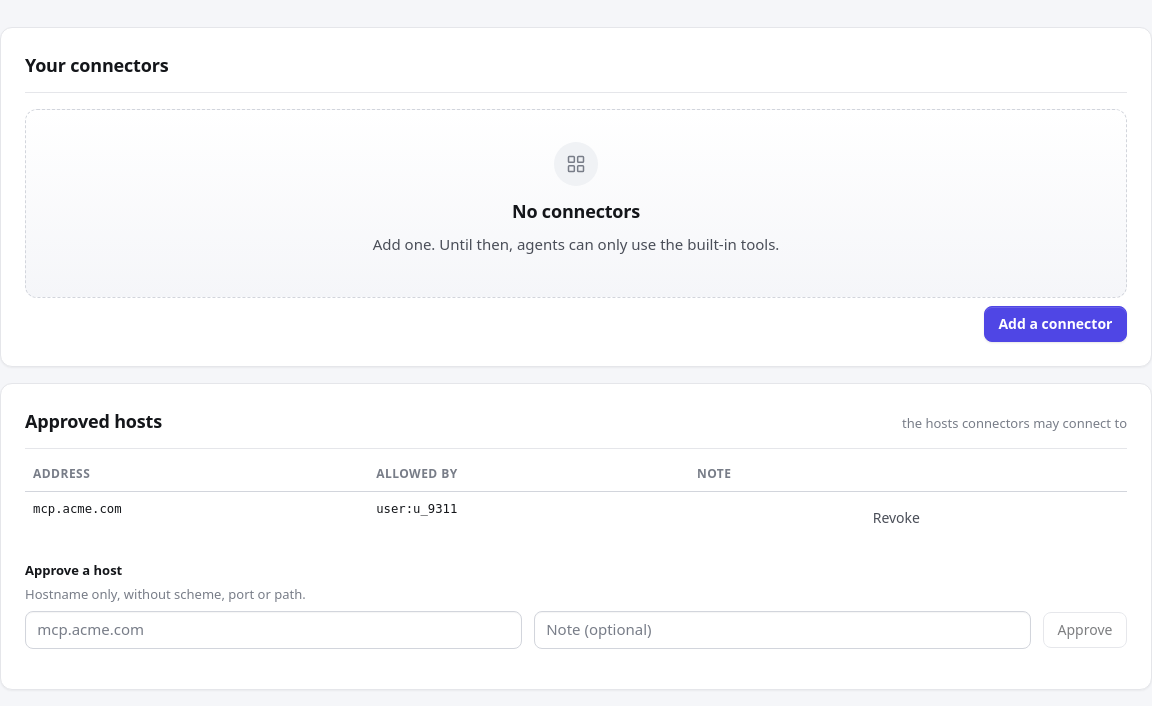
hosts › renders the warning after approving one that will never be dialled
(page scrolled)
Type "localhost" into the field with placeholder "mcp.acme.com" at (274, 630), box [25,611,522,649]
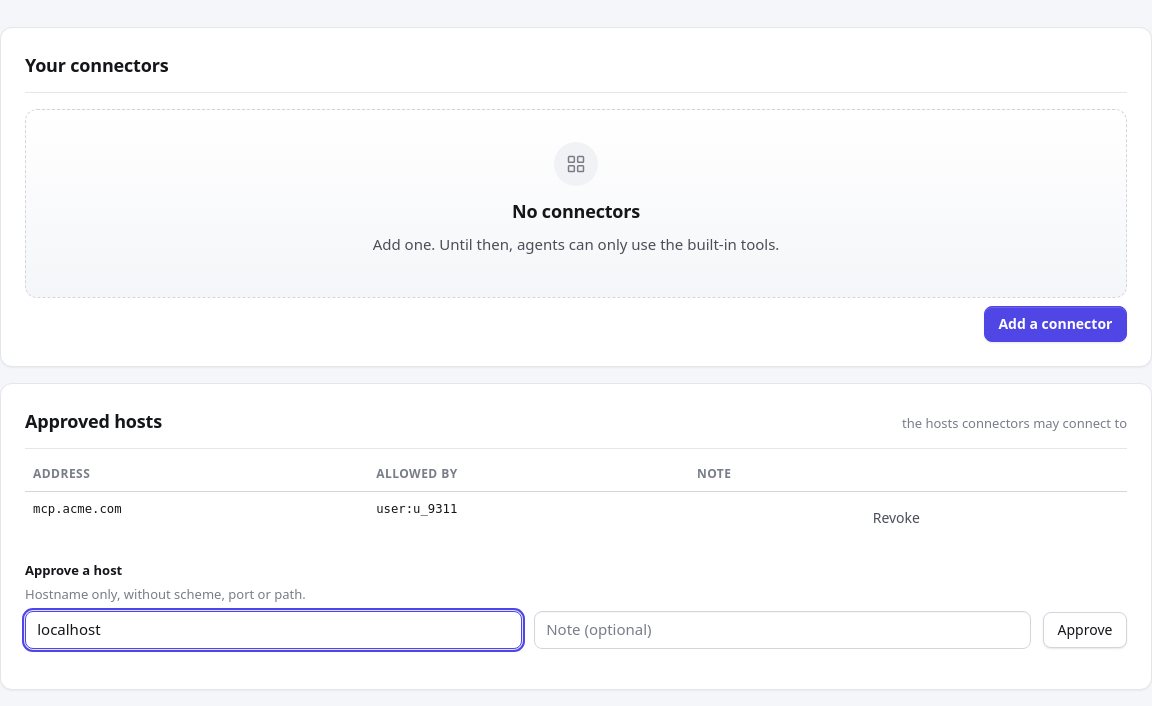
Click the button "Approve" at (1085, 630), box [1043,612,1127,648]
(page scrolled)
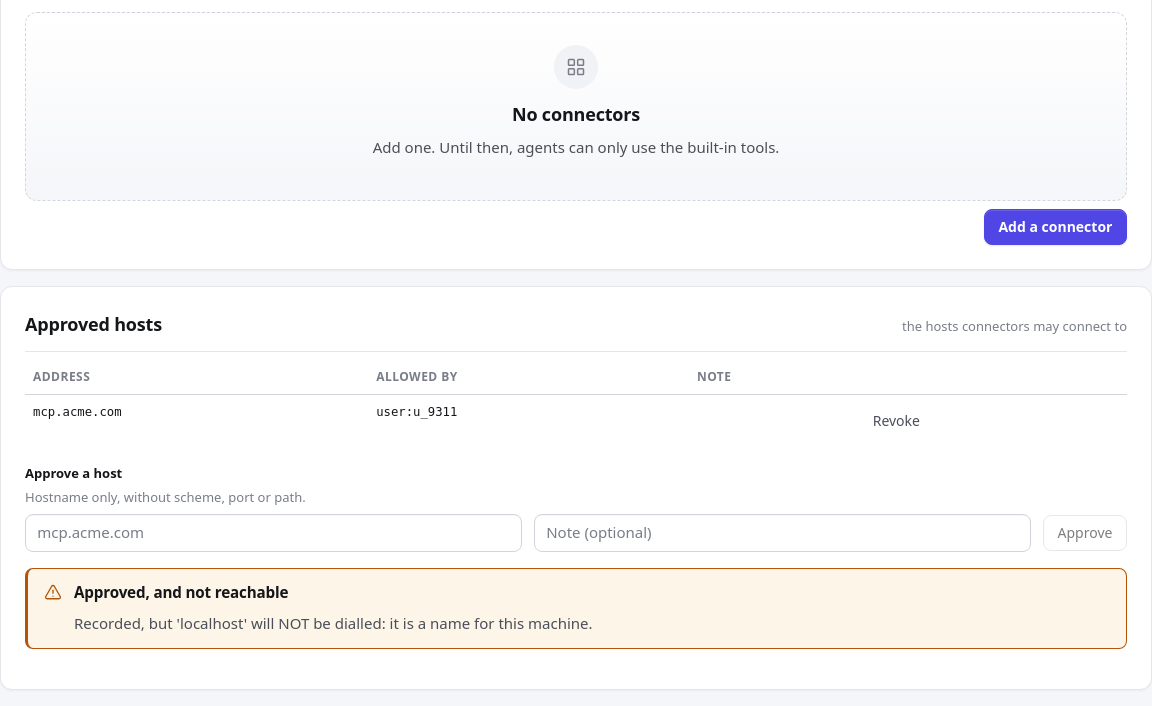
Now the text "will NOT be dialled" is shown, box [74,614,593,634]
